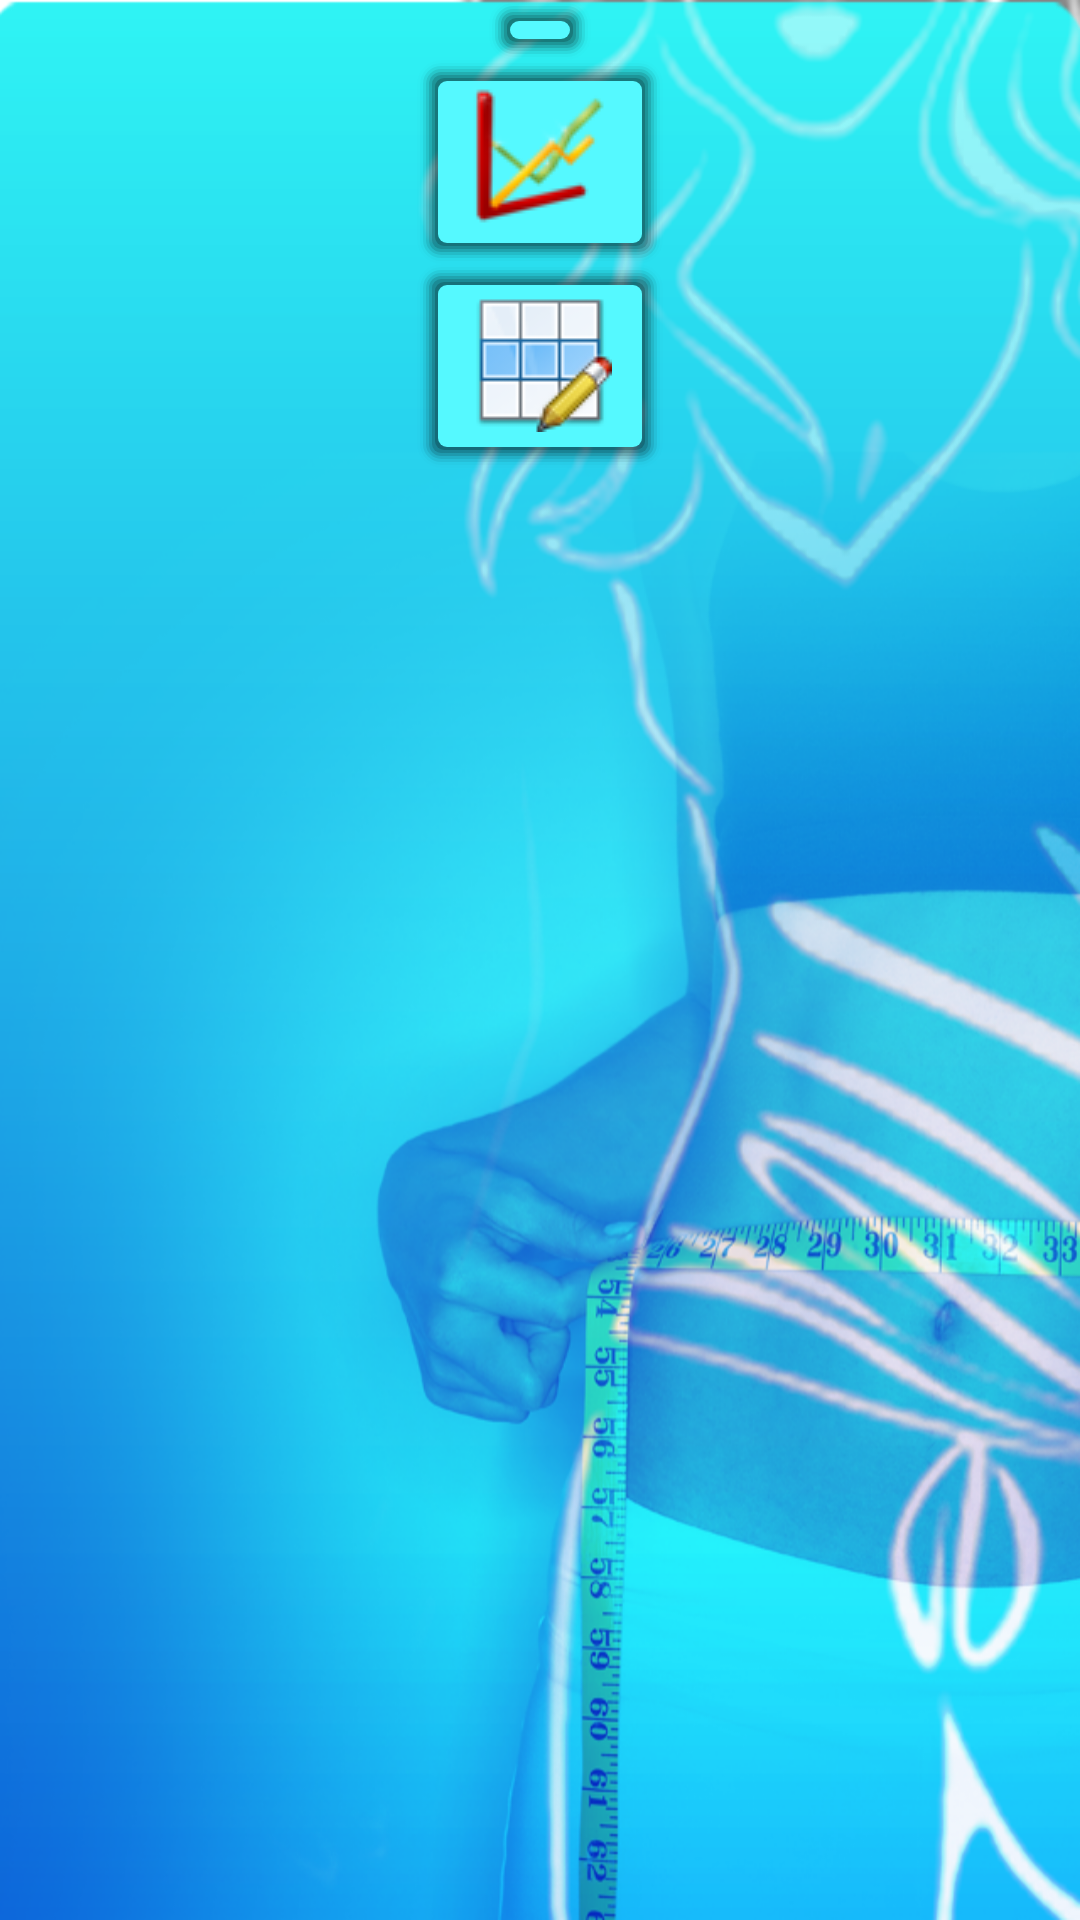

Named icons in this screenshot (1080*1920) and their bounding boxes, (x1, y1, x2, y2):
line chart: (422, 60, 663, 264)
table row edit: (423, 264, 661, 468)
